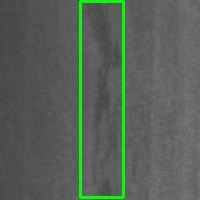inclusion: (81, 1, 124, 197)
